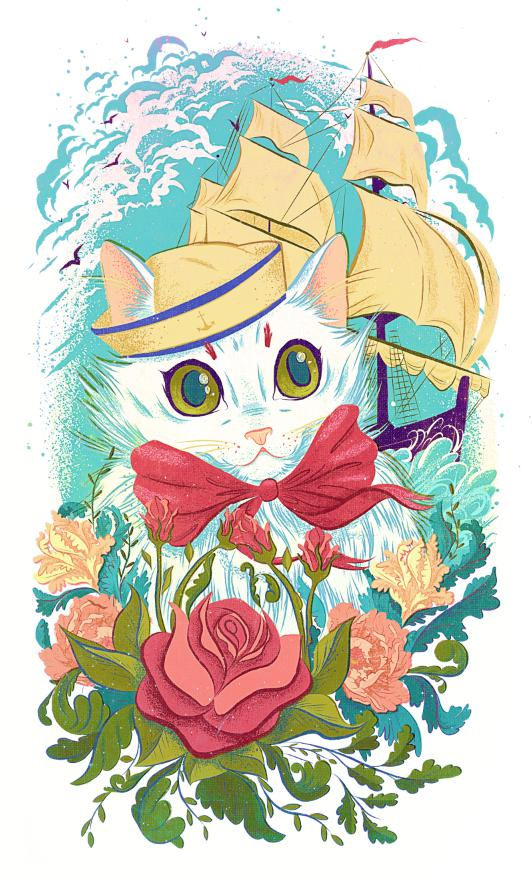cat: (17, 25, 532, 857)
